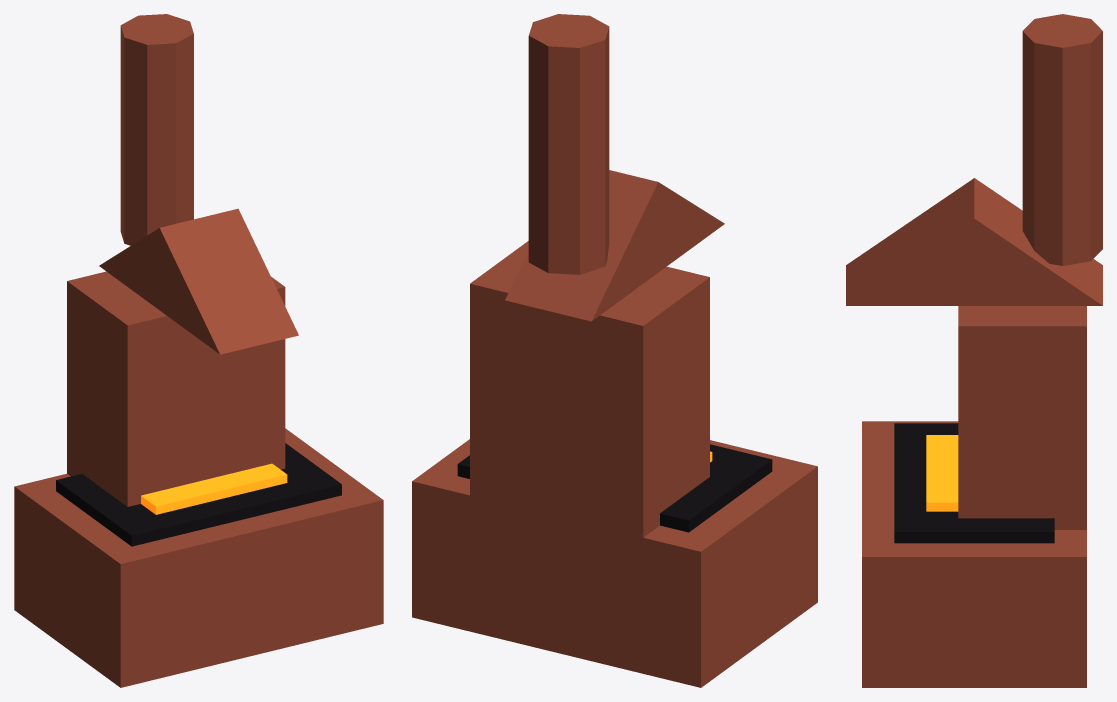
File: forge.glb
3 renders of one model, left to right at view 1: azimuth 30°, elevation 25°; view 2: azimuth 150°, elevation 25°; view 3: azimuth 270°, elevation 25°, orthographic. The views are drawn at different scales.
Parts seen in each view (by area): view 1: forge; view 2: forge; view 3: forge.
Part boxes in pixels (x1,y1,x2,y2): forge: (14,14,383,687); forge: (412,14,817,687); forge: (846,14,1102,687).
Size of the model in its own units: 2 by 4.05 by 1.6.
